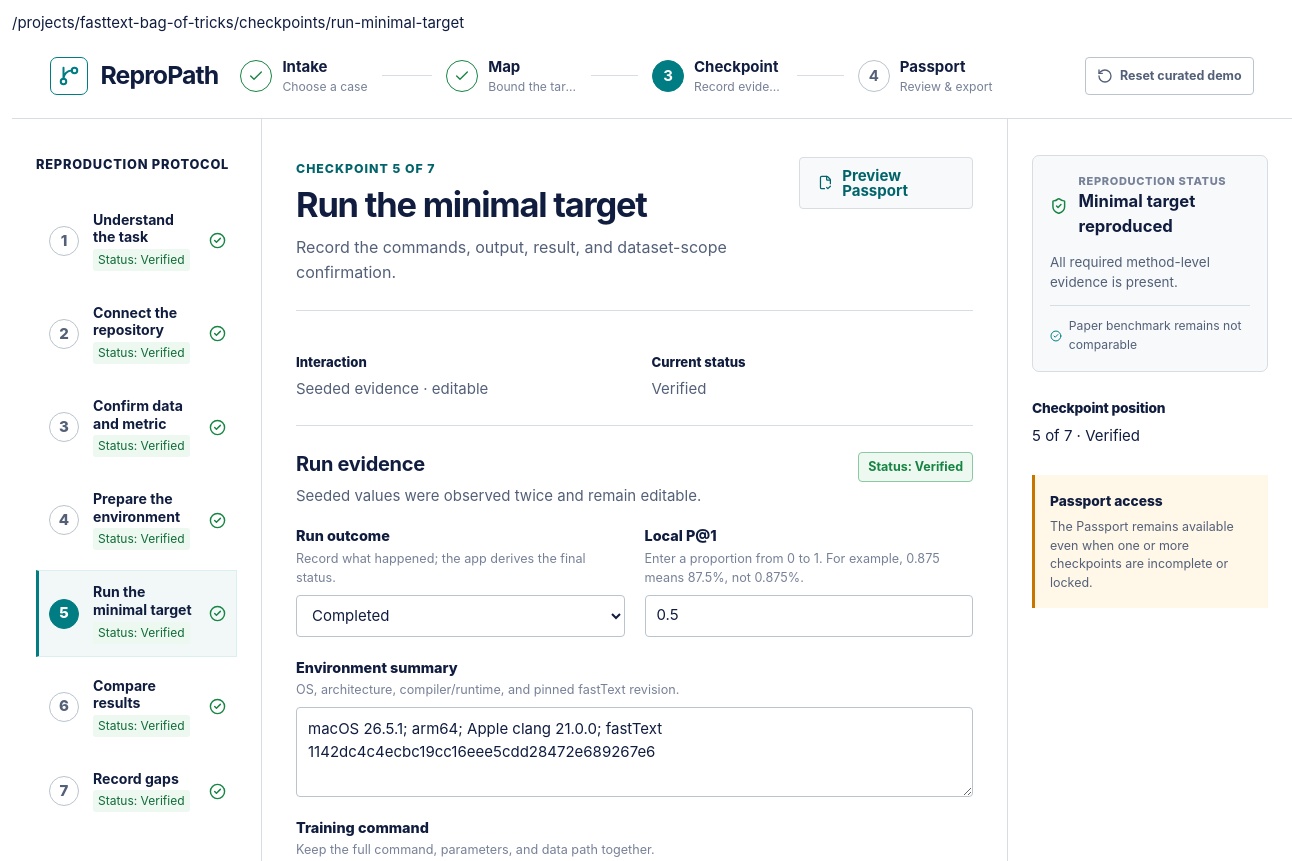
Test: curated reset and release recovery › restores the exact reviewed seed and keeps the current route valid
The image size is (1292, 861).
Click the button "Reset curated demo" at [1169, 76], box [1085,57,1254,95]
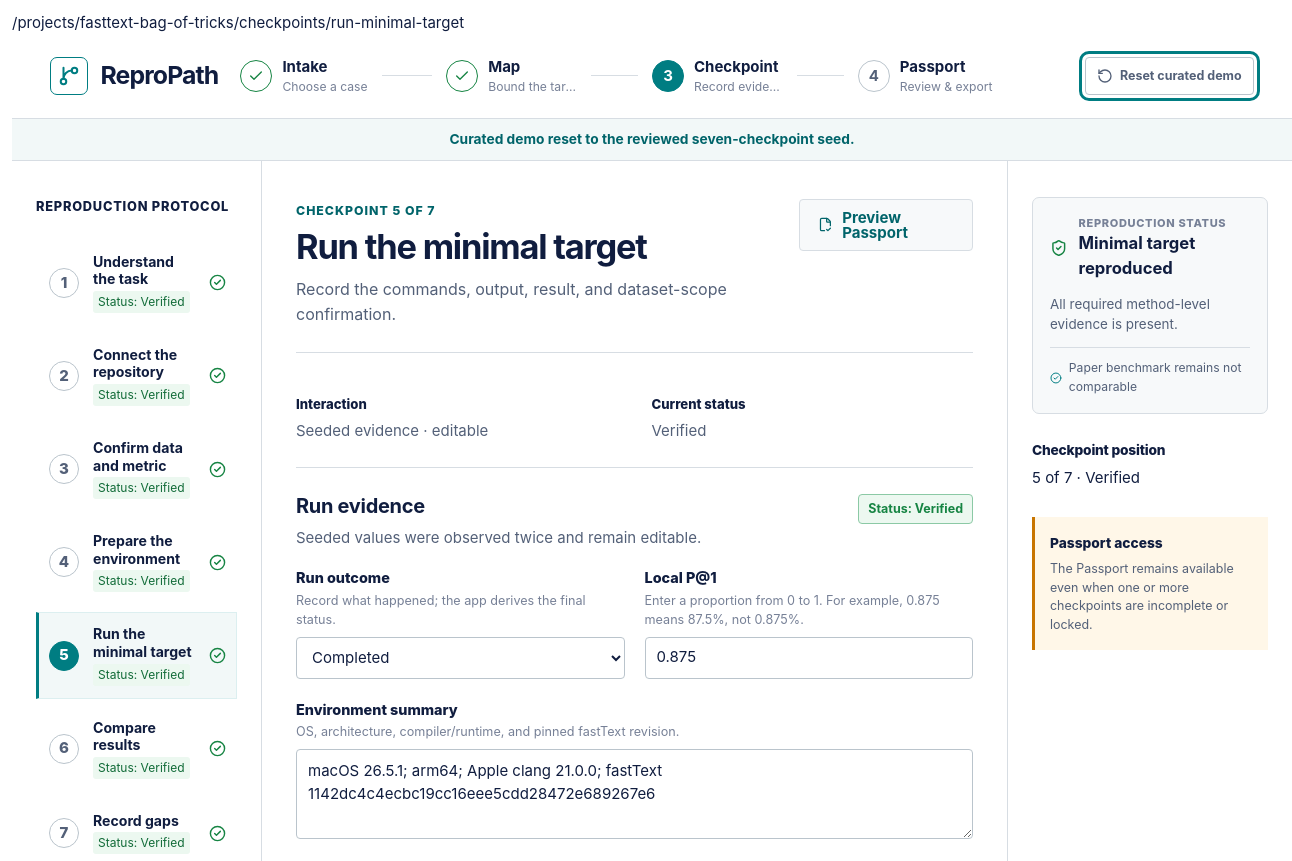
Check: the text "Curated demo reset to the reviewed seven-checkpoint seed." is shown, box [12,118,1291,160]
